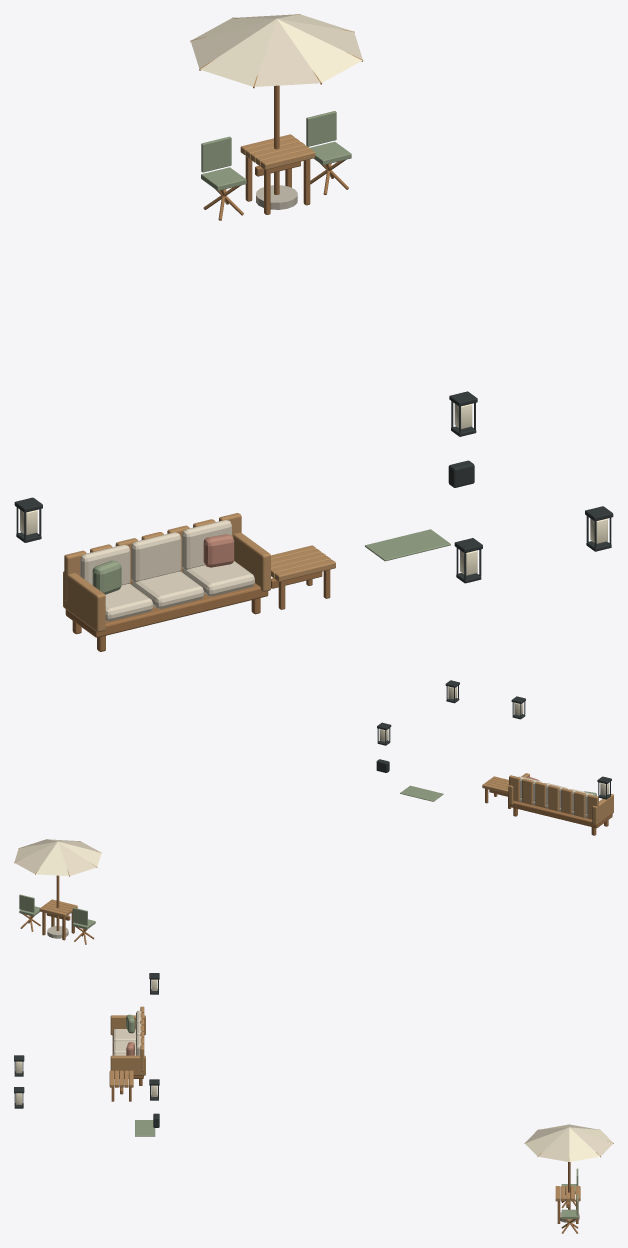
File: SM_CreatorCoupleHouse_Props.fbx
3 renders of one model, top to bottom at view 1: azimuth 30°, elevation 25°; view 2: azimuth 150°, elevation 25°; view 3: azimuth 270°, elevation 25°, orthographic. The views are drawn at different scales.
Visible parts, largest first — view 1: SM_CreatorCoupleHouse_Props; view 2: SM_CreatorCoupleHouse_Props; view 3: SM_CreatorCoupleHouse_Props.
Part boxes in pixels (left/top/right/bottom): SM_CreatorCoupleHouse_Props: left=14, top=14, right=613, bottom=651; SM_CreatorCoupleHouse_Props: left=14, top=680, right=613, bottom=944; SM_CreatorCoupleHouse_Props: left=14, top=973, right=613, bottom=1233.
Size of what is drawn, in the model's own units: 1105 by 1532 by 258.
